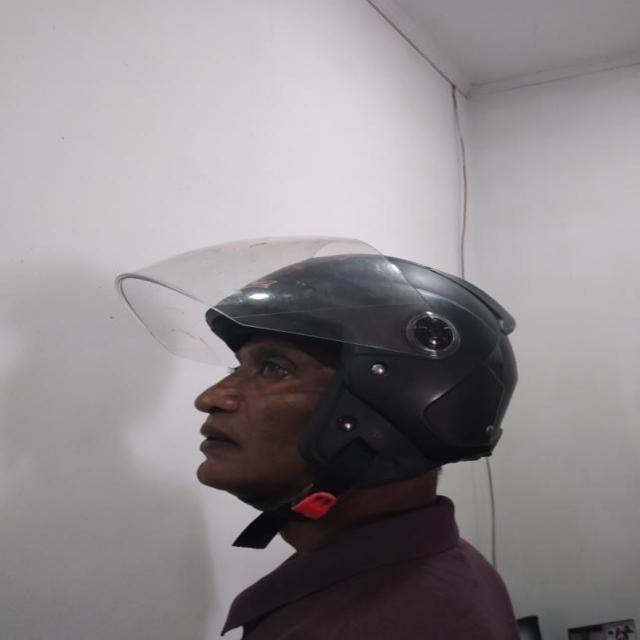With Helmet: (117, 233, 520, 482)
